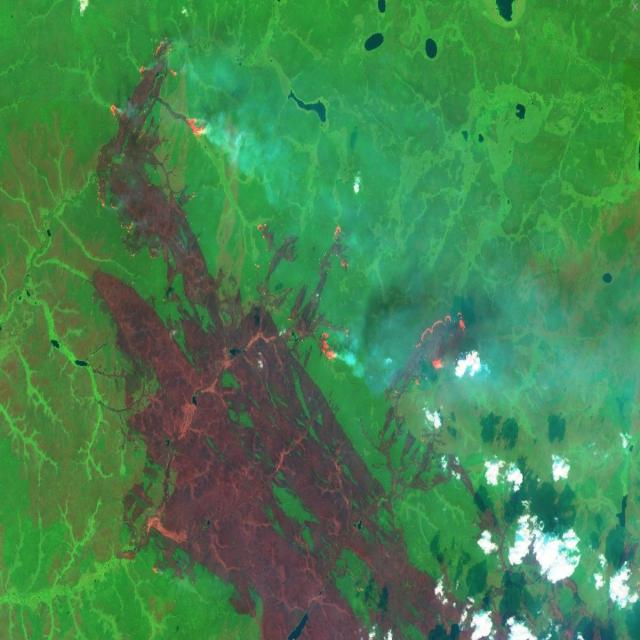fire: (412, 306, 467, 379), (137, 34, 181, 83), (330, 214, 352, 278), (313, 323, 344, 368), (180, 108, 217, 144), (251, 210, 279, 250), (105, 92, 132, 130)
